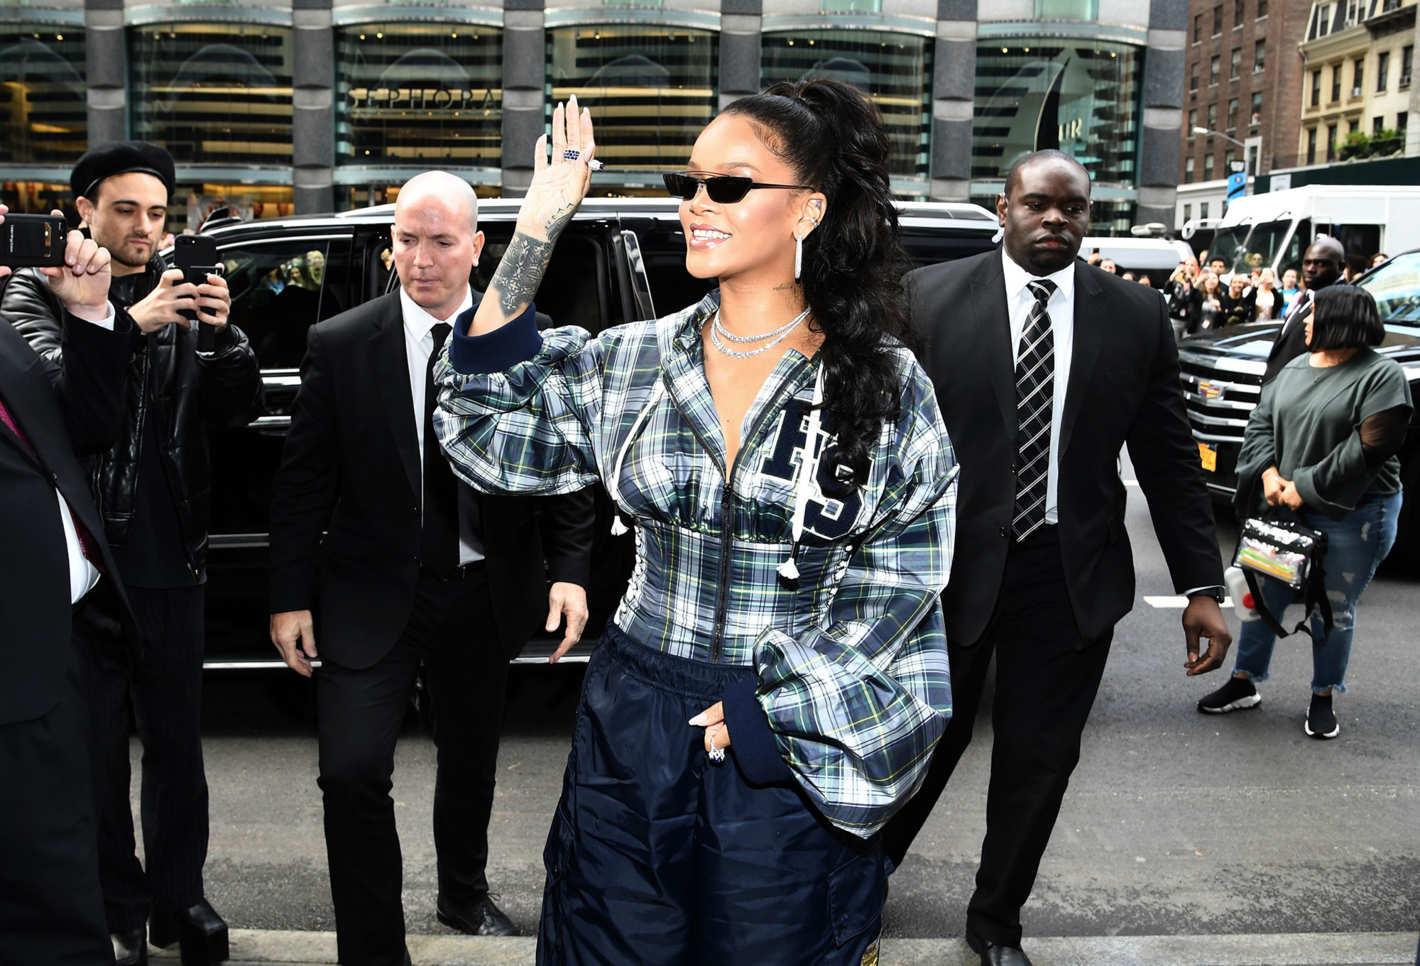sunglasses: (651, 168, 760, 205)
